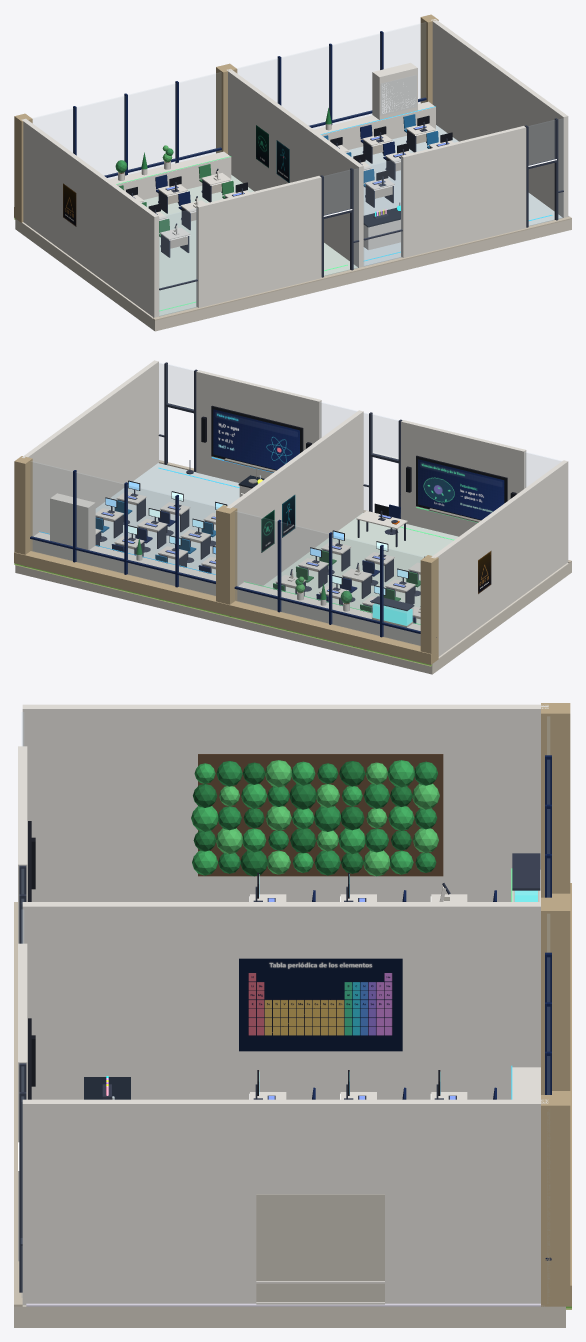
File: laboratorios.glb
The picture shows the model from 3 angles, top to bottom: view 1: azimuth 30°, elevation 25°; view 2: azimuth 150°, elevation 25°; view 3: azimuth 270°, elevation 25°; orthographic projection. The views are drawn at different scales.
Parts seen in each view (by area): view 1: mate-f7f4ee, vidrio-cfe0ea, vidrio-cfe6ff, brillo-f7f4ee, mate-e8e2d6, mate-e4f2ea, metal-3a4256, mate-cdb894, mate-e3eff3, metal-14285a, MeshStandardMaterial-tex (×3), mate-ddd3c2 (+6 smaller); view 2: mate-f7f4ee, vidrio-cfe0ea, brillo-f7f4ee, MeshBasicMaterial-tex (×2), brillo-cdb894, mate-cdb894, mate-e3eff3, metal-3a4256, mate-e4f2ea, mate-e8e2d6, vidrio-cfe6ff, metal-14285a (+8 smaller); view 3: mate-f7f4ee, mate-cdb894, MeshStandardMaterial-tex, mate-ddd7cc, mate-e8e2d6, mate-6b4f3a, plano-3fae5f, plano-5cc46f, plano-2f8f4e, plano-277a41, metal-3a4256, brillo-f7f4ee (+7 smaller).
Boxes of the visible parts, x1,y1,x2,y2 form: mate-f7f4ee: (21, 19, 568, 317); vidrio-cfe0ea: (32, 22, 425, 178); vidrio-cfe6ff: (159, 75, 562, 315); brillo-f7f4ee: (109, 62, 453, 250); mate-e8e2d6: (15, 219, 571, 331); mate-e4f2ea: (144, 175, 357, 316); metal-3a4256: (131, 118, 563, 290); mate-cdb894: (14, 14, 438, 222); mate-e3eff3: (348, 125, 562, 266); metal-14285a: (73, 31, 426, 177); MeshStandardMaterial-tex (×3): (63, 125, 289, 226); mate-ddd3c2: (152, 216, 571, 320); mate-f7f4ee: (22, 360, 568, 656); vidrio-cfe0ea: (31, 461, 423, 645); brillo-f7f4ee: (32, 485, 420, 645); MeshBasicMaterial-tex (×2): (213, 409, 504, 519); brillo-cdb894: (14, 551, 431, 664); mate-cdb894: (14, 456, 438, 664); mate-e3eff3: (95, 463, 239, 574); metal-3a4256: (95, 362, 424, 623); mate-e4f2ea: (262, 513, 458, 624); mate-e8e2d6: (15, 562, 571, 674); vidrio-cfe6ff: (159, 363, 561, 511); metal-14285a: (30, 470, 436, 637); mate-f7f4ee: (18, 704, 548, 1305); mate-cdb894: (541, 703, 570, 1306); MeshStandardMaterial-tex: (239, 958, 402, 1051); mate-ddd7cc: (256, 1194, 384, 1301); mate-e8e2d6: (14, 1305, 565, 1327); mate-6b4f3a: (198, 754, 443, 876); plano-3fae5f: (191, 760, 414, 875); plano-5cc46f: (216, 760, 439, 876); plano-2f8f4e: (216, 761, 437, 875); plano-277a41: (193, 761, 412, 876); metal-3a4256: (19, 853, 540, 1292); brillo-f7f4ee: (250, 869, 540, 1099).
Bounding box in the file's own units: 16.3 × 4.2 × 9.55.
Materials: 67 (7 with a texture image).
